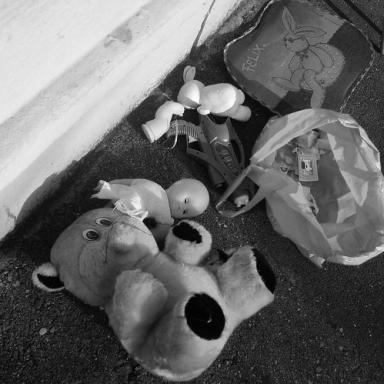plasticbag: (246, 104, 383, 268)
